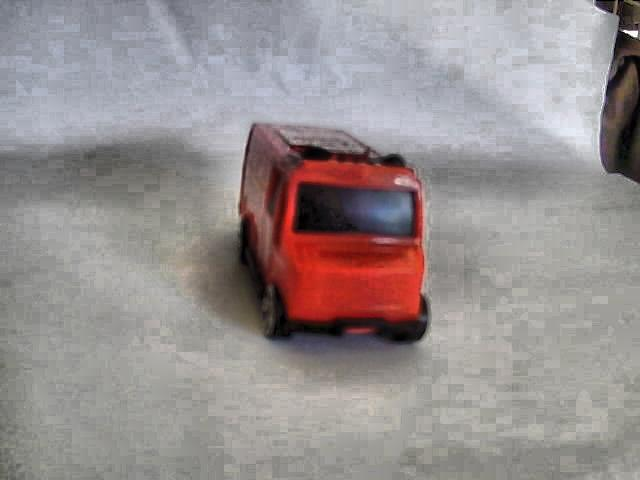fire_truck: (231, 118, 433, 345)
